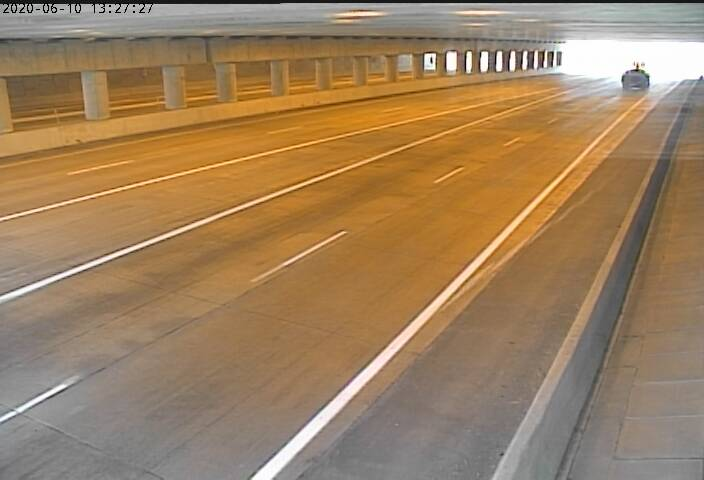time_stamp: (1, 1, 157, 16)
